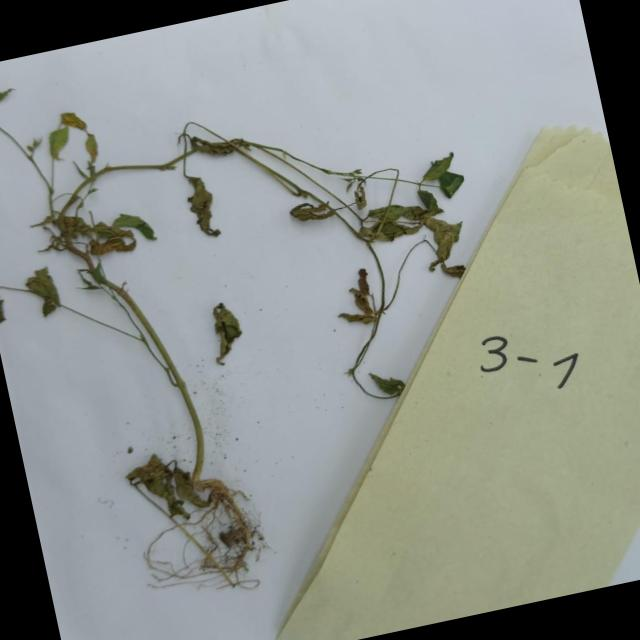Root: (125, 436, 278, 612)
Stem: (114, 268, 208, 462), (230, 110, 358, 220), (54, 151, 190, 207), (64, 282, 156, 362), (0, 107, 57, 218)
rooten_leaf: (28, 196, 148, 272), (184, 98, 271, 170), (0, 253, 69, 336), (353, 190, 449, 248), (342, 346, 420, 412), (419, 203, 472, 300), (198, 290, 260, 370), (53, 95, 111, 169), (177, 170, 234, 244), (419, 144, 480, 212), (325, 260, 379, 336)
